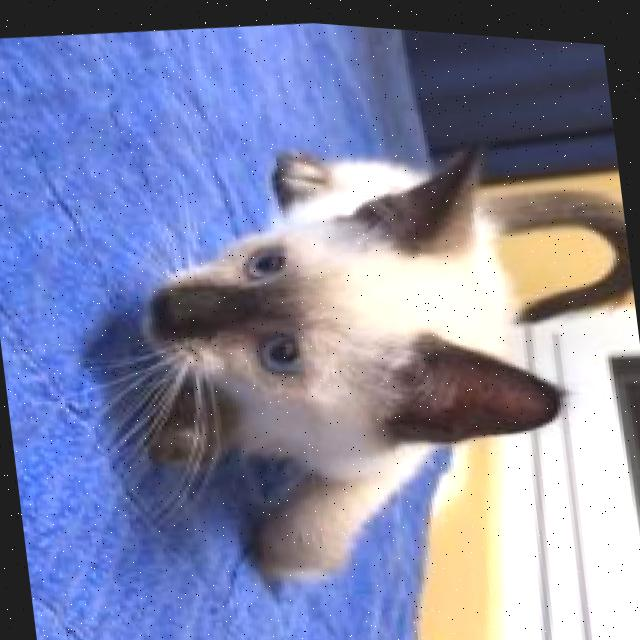Siamese: (105, 91, 640, 613)
